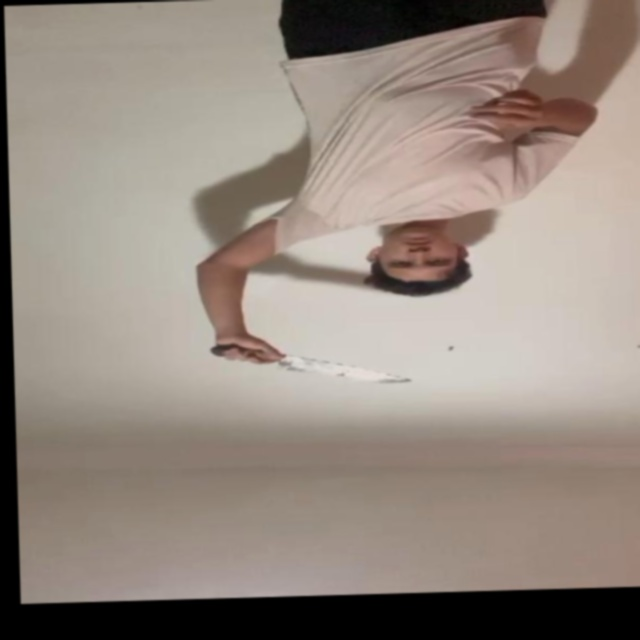Sharp-Object: (273, 357, 413, 389)
